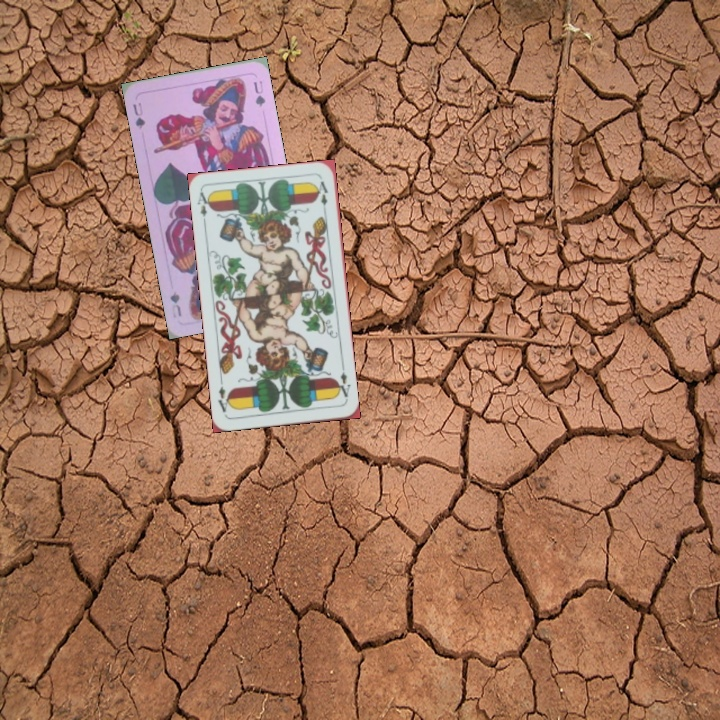EA: (193, 188, 213, 228), (332, 368, 353, 403)
GU: (129, 98, 148, 131)
